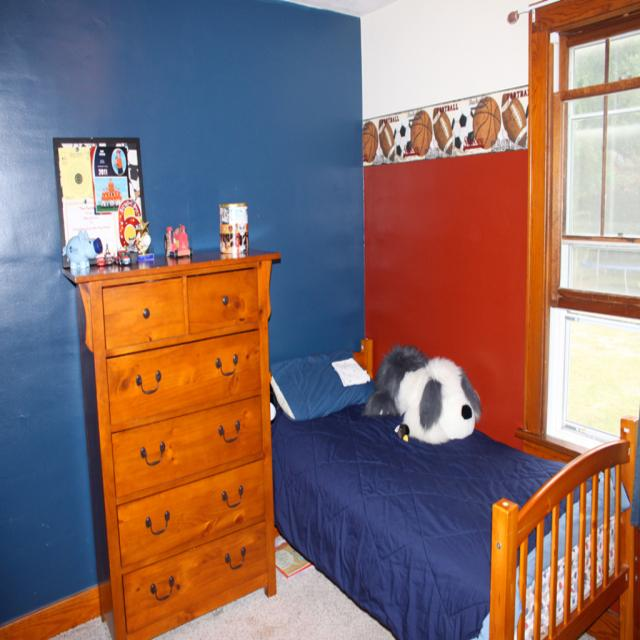bed: (277, 321, 614, 618)
beside table: (76, 249, 276, 630)
window: (537, 26, 640, 462)
